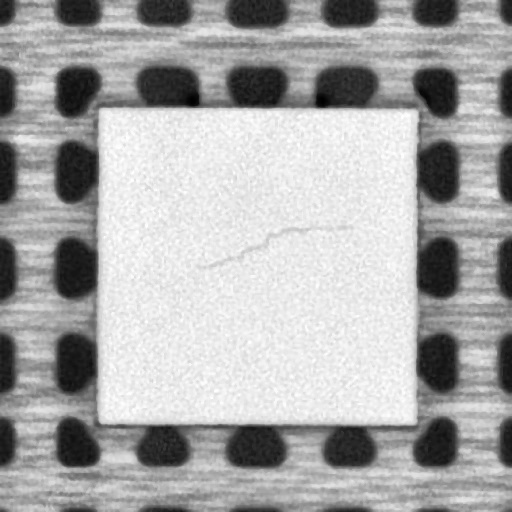DIE_CRACK: (192, 222, 358, 272)
